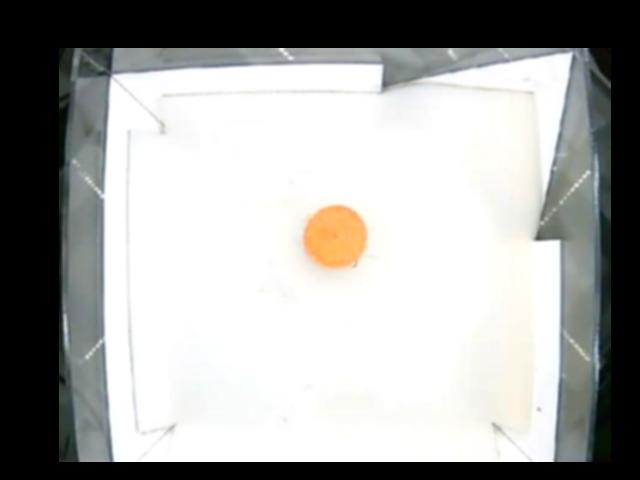Carrot: (303, 204, 367, 268)
